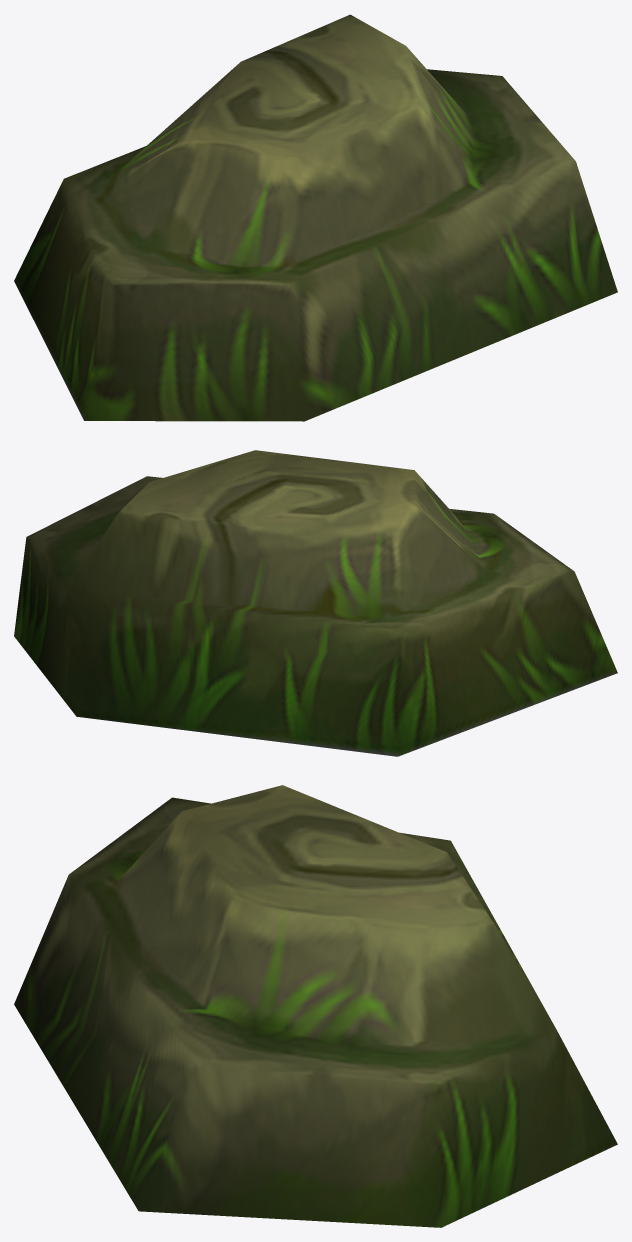
The model's file is floor_rocks_05.fbx.
3 views of the same model, one above another, from view 1: azimuth 30°, elevation 25°; view 2: azimuth 150°, elevation 25°; view 3: azimuth 270°, elevation 25° (orthographic). The views are drawn at different scales.
Visible parts, largest first — view 1: floor_rocks_05; view 2: floor_rocks_05; view 3: floor_rocks_05.
Part boxes in pixels (x1,y1,x2,y2): floor_rocks_05: (14, 14, 617, 421); floor_rocks_05: (14, 450, 617, 756); floor_rocks_05: (14, 785, 617, 1227).
Bounding box in the file's own units: 105 × 34.33 × 84.72.
